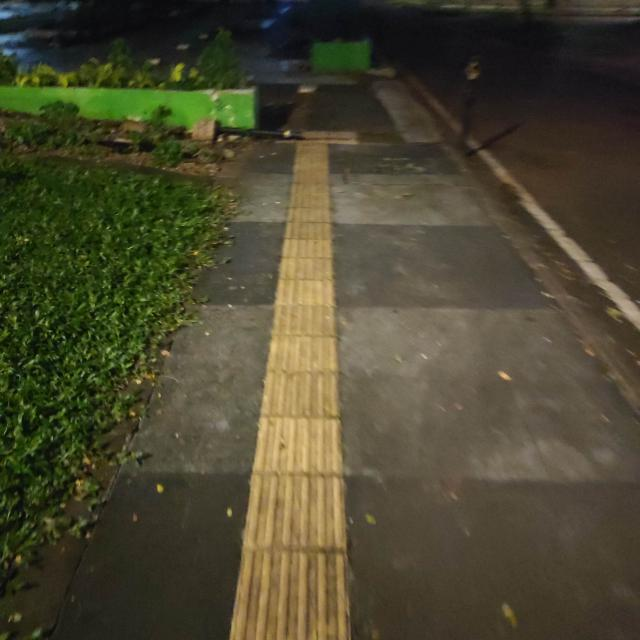lurus: (240, 177, 374, 640)
